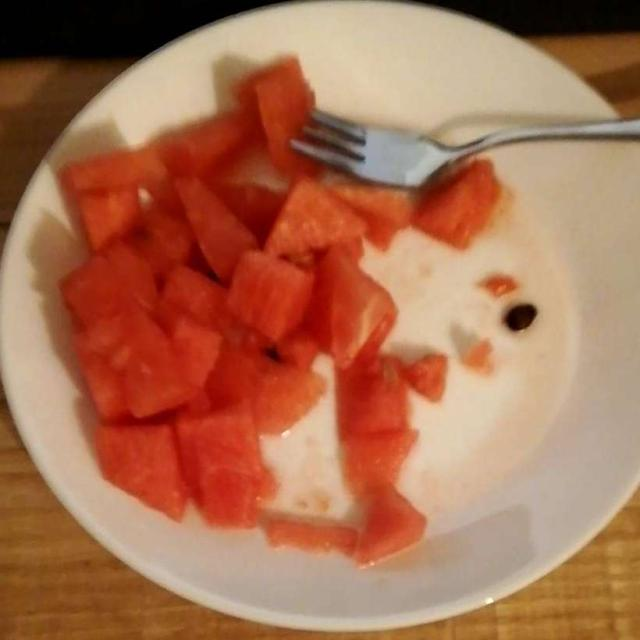watermelon-fresh: (58, 71, 512, 560)
